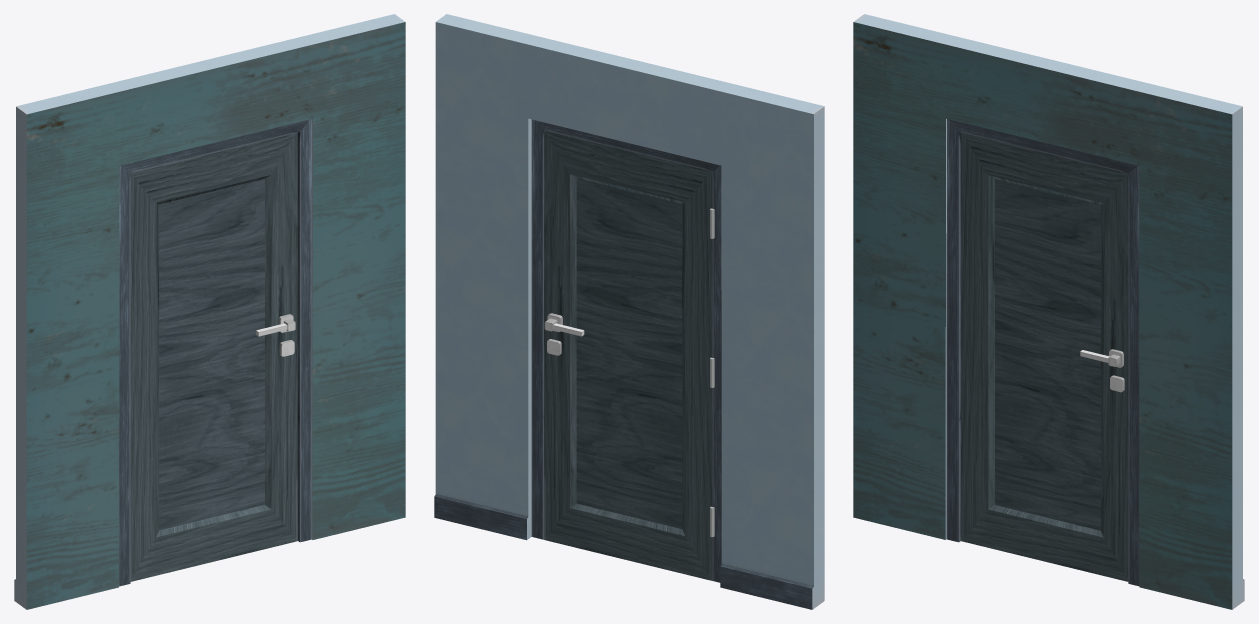
File: DoorWall.fbx
3 renders of one model, left to right at view 1: azimuth 30°, elevation 25°; view 2: azimuth 150°, elevation 25°; view 3: azimuth 330°, elevation 25°, orthographic.
Parts seen in each view (by area): view 1: DoorWall, Door, DoorFrame; view 2: DoorWall, Door, DoorFrame; view 3: DoorWall, Door, DoorFrame.
Boxes of the visible parts, left/top/right/bottom form: DoorWall: left=14, top=14, right=405, bottom=609; Door: left=130, top=132, right=297, bottom=581; DoorFrame: left=119, top=119, right=311, bottom=586; DoorWall: left=434, top=14, right=824, bottom=609; Door: left=544, top=130, right=712, bottom=580; DoorFrame: left=531, top=119, right=721, bottom=582; DoorWall: left=853, top=14, right=1244, bottom=609; Door: left=961, top=132, right=1128, bottom=581; DoorFrame: left=946, top=119, right=1139, bottom=586.
Size of the model in its own units: 2 by 2.5 by 0.1599.
